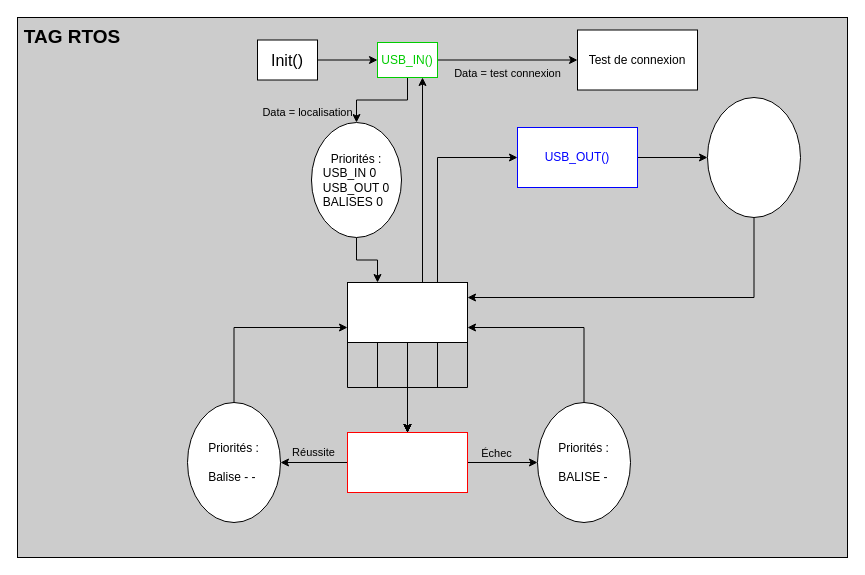
Image size: 865x575. Some labels were removed from this diagram. Here are the shapes that lost their labels. From the top down, the centre of each, then its label:
point (753, 157): Priorités : USB_IN + BALISES 0
point (407, 312): RTOS scheduling
point (407, 462): Communication avec la balise x
